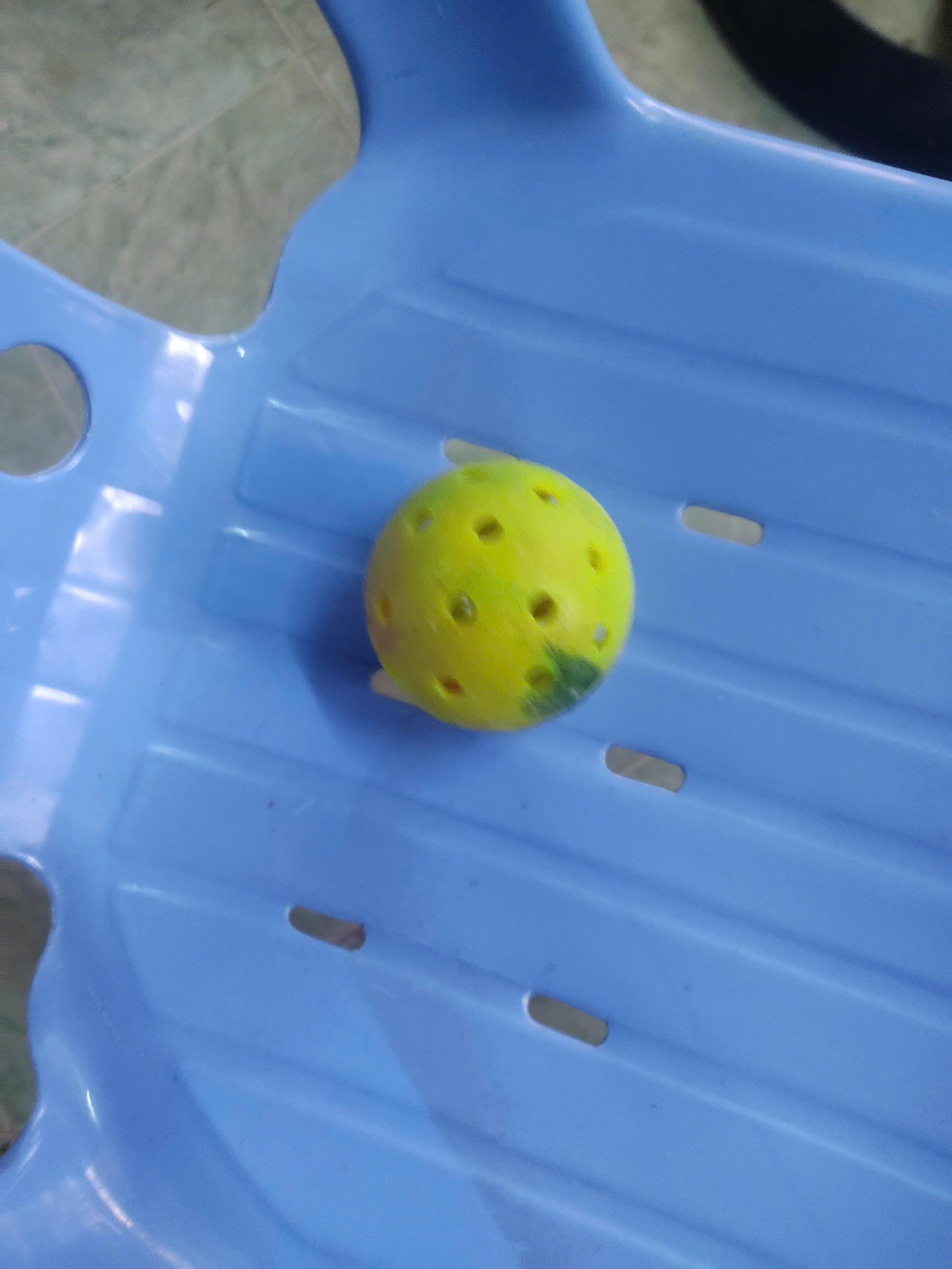ball: (352, 454, 642, 738)
